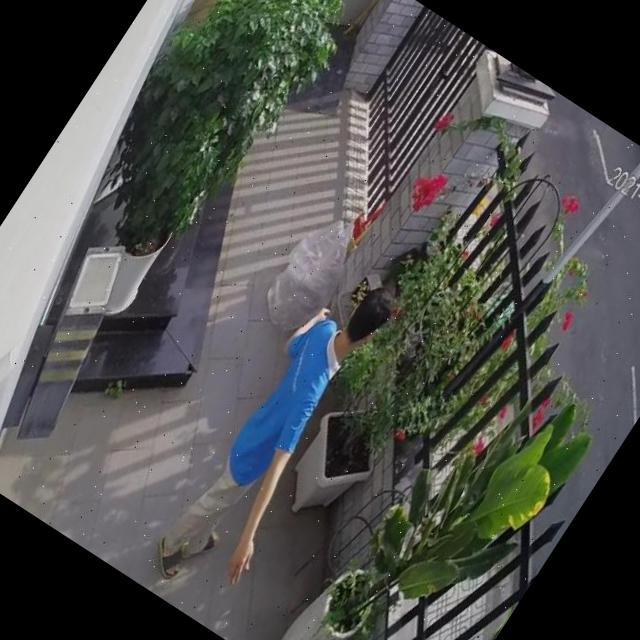person: (139, 254, 420, 616)
